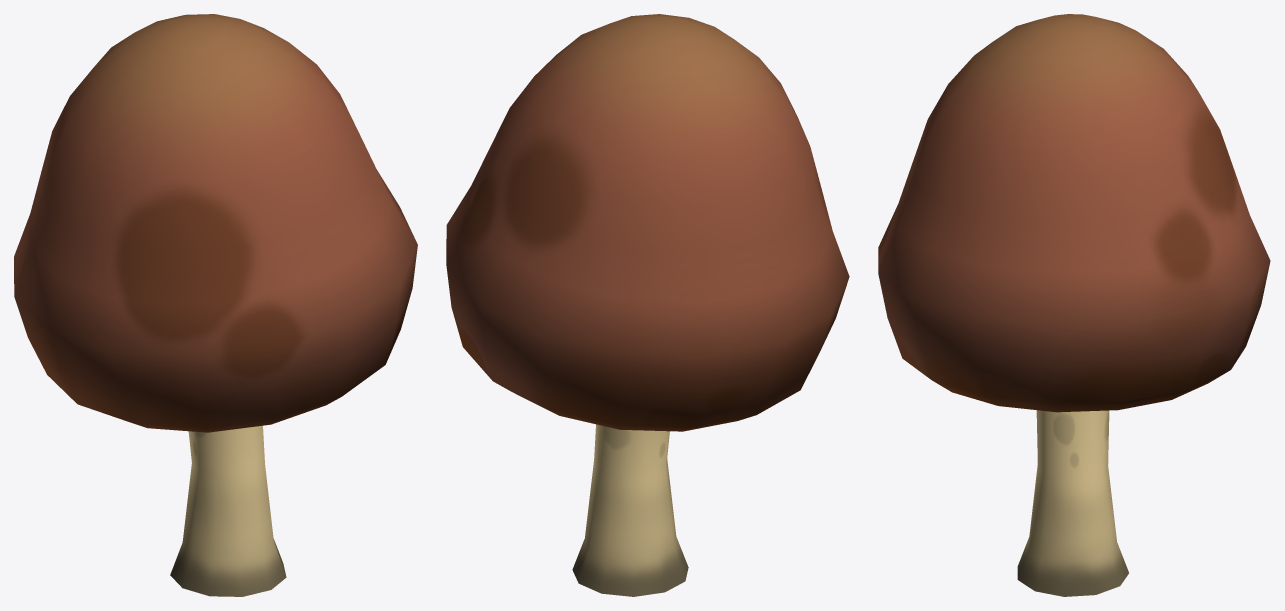
File: mushroom-5.fbx
The picture shows the model from 3 angles, left to right: view 1: azimuth 30°, elevation 25°; view 2: azimuth 150°, elevation 25°; view 3: azimuth 270°, elevation 25°; orthographic projection. The views are drawn at different scales.
Parts seen in each view (by area): view 1: Sphere.001; view 2: Sphere.001; view 3: Sphere.001.
Part boxes in pixels (box(x1,y1,x2,y2)): Sphere.001: box(14, 14, 417, 596); Sphere.001: box(446, 14, 849, 596); Sphere.001: box(878, 14, 1270, 596).
Bounding box in the file's own units: 1167 × 1754 × 1166.
2 materials, 2 textured.
